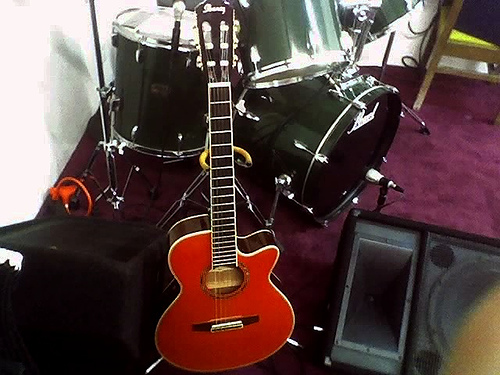guitar: (152, 1, 297, 375)
